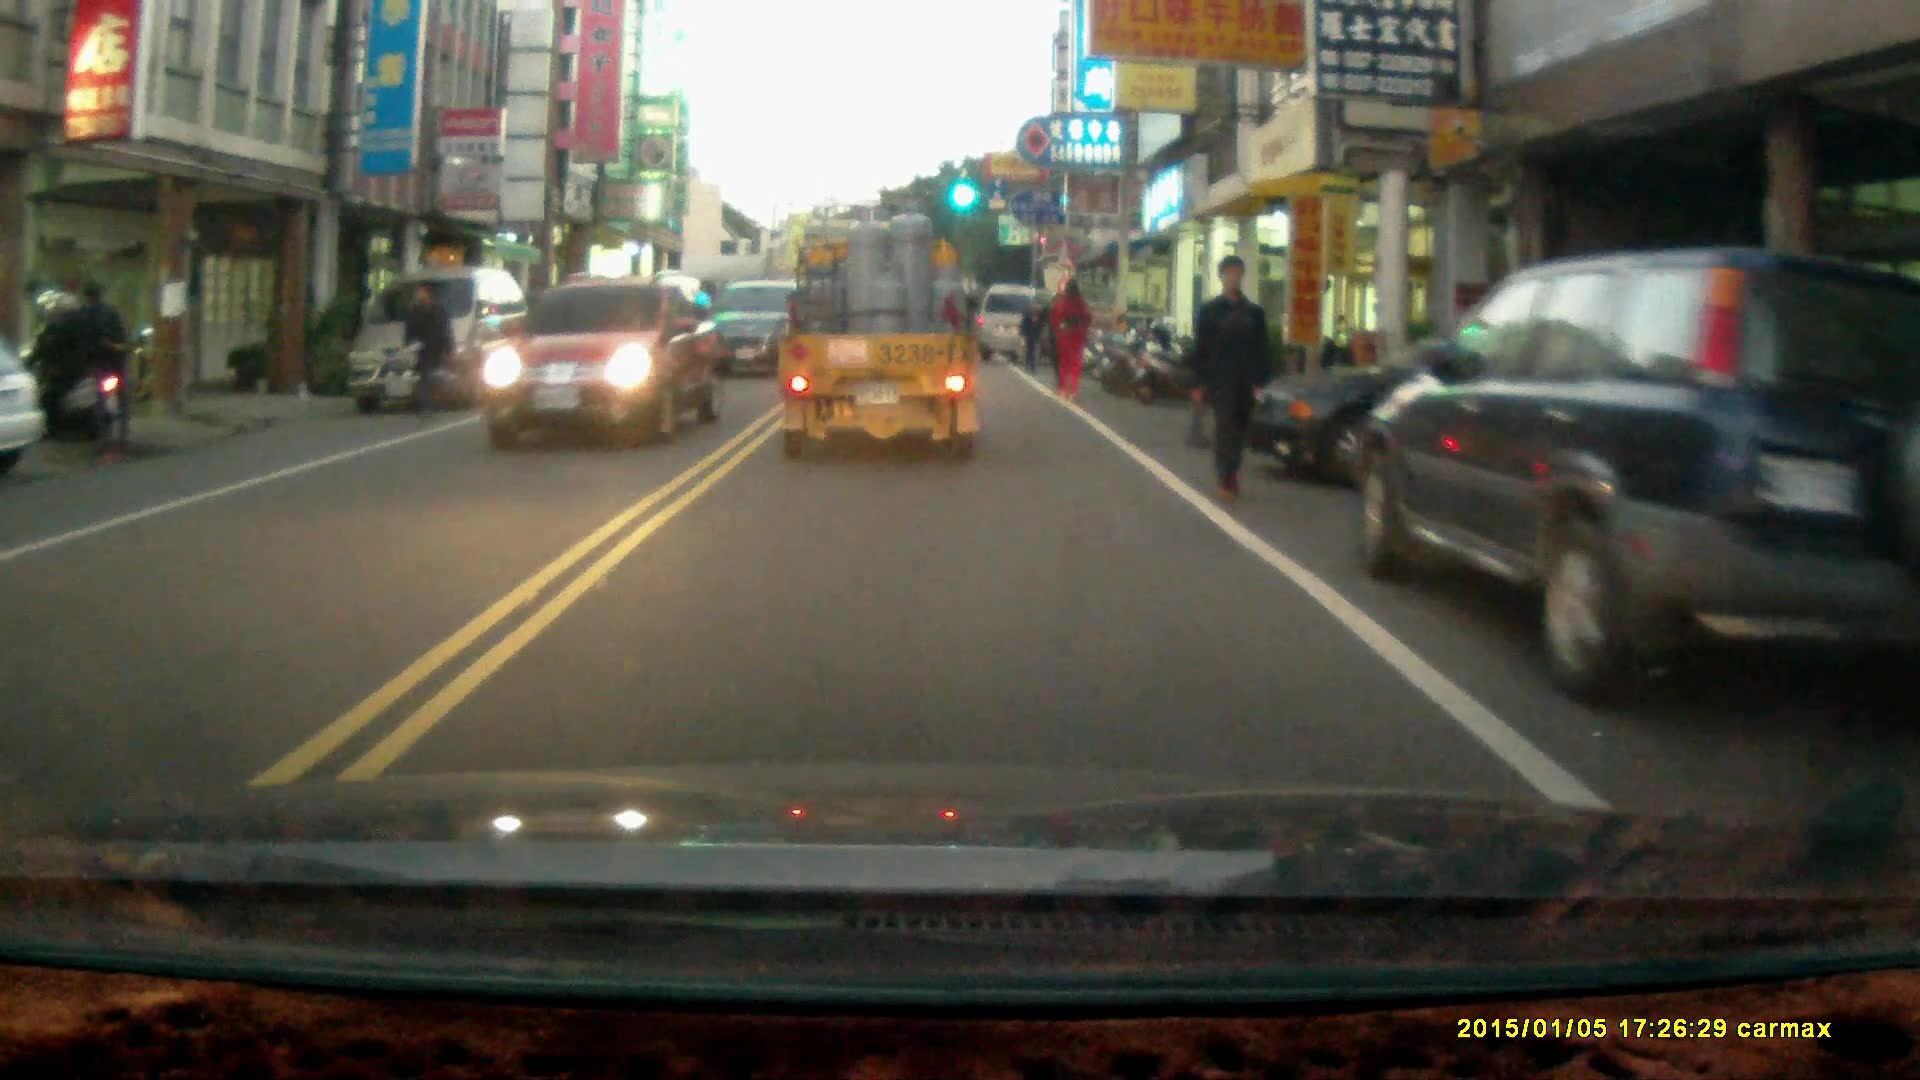pedestrian: (1187, 253, 1273, 508), (73, 279, 139, 452), (397, 279, 453, 428), (1051, 274, 1091, 398), (1016, 301, 1046, 374)
rider: (20, 286, 122, 447)
vehicle: (1350, 240, 1912, 728), (775, 205, 983, 473), (480, 270, 732, 442), (701, 278, 808, 384), (1, 333, 51, 476), (984, 277, 1058, 361)
